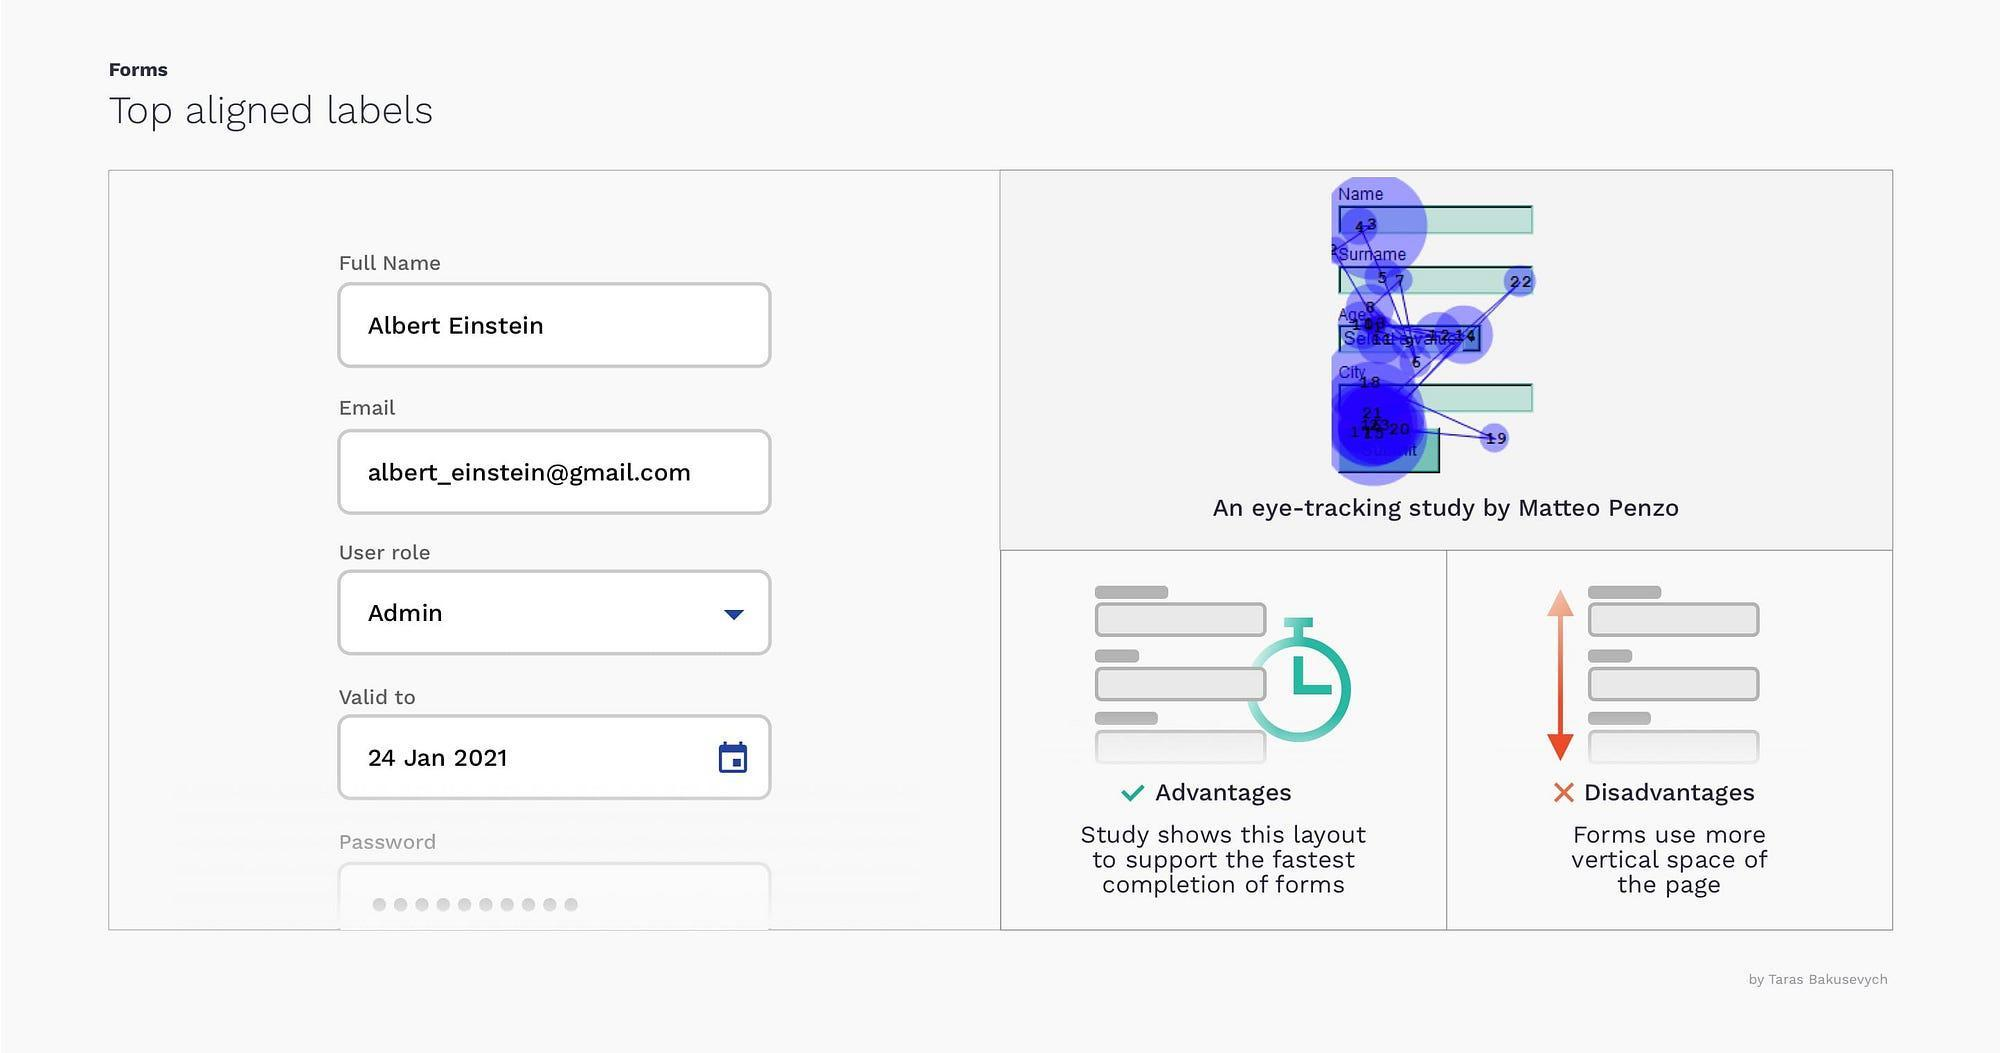dropdown: (335, 570, 772, 655)
input: (337, 433, 775, 519), (340, 286, 771, 370), (337, 720, 774, 802), (335, 864, 772, 938)
label: (114, 82, 451, 149), (331, 526, 442, 570), (337, 821, 442, 865), (337, 247, 444, 280), (341, 677, 425, 712), (331, 398, 405, 427)
